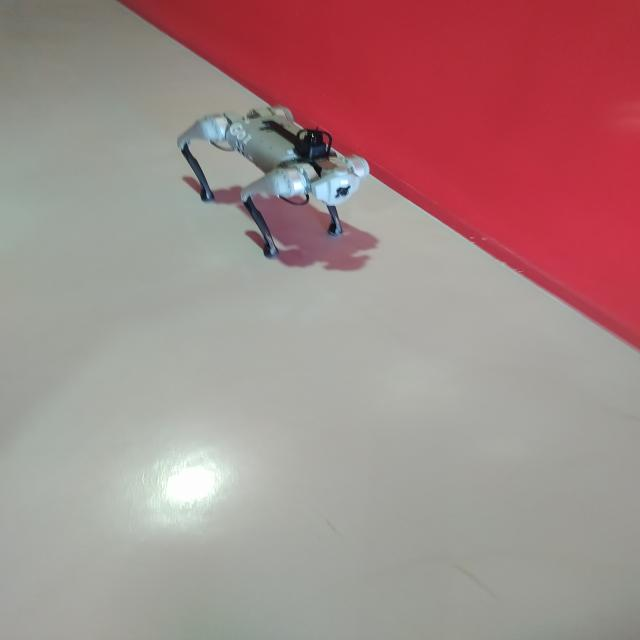unitree-go1-robot: (176, 104, 370, 262)
